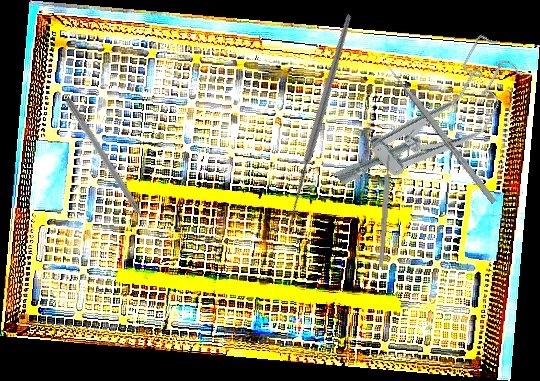Hook Surgical: (206, 11, 439, 243)
Pusher: (381, 58, 498, 205), (62, 96, 158, 241)
Scalpel Handle: (378, 154, 392, 268)
Speculum: (323, 28, 537, 222)
